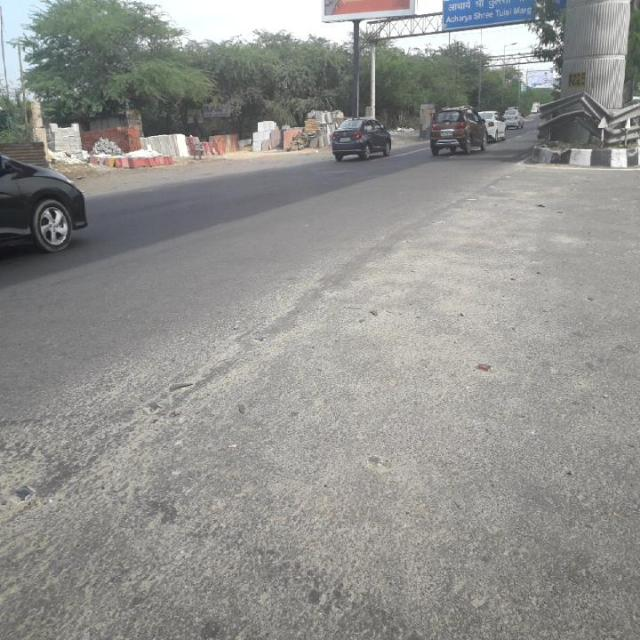D20: (0, 341, 214, 623)
D40: (0, 431, 52, 523)
